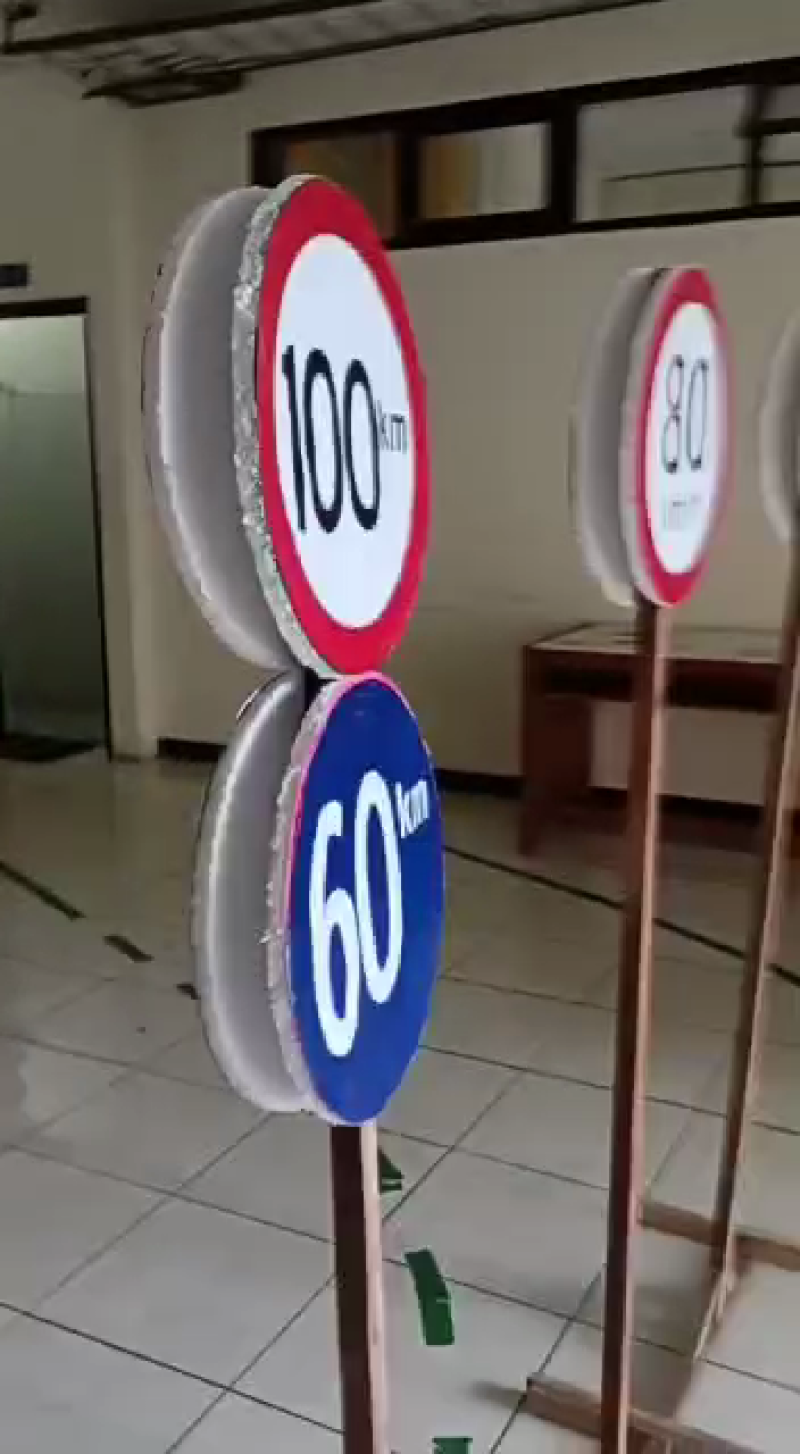batas maksimal 100kmperjam minimal 60kmperjam: (211, 157, 487, 1148)
batas maksimal 80kmperjam: (613, 259, 739, 618)
